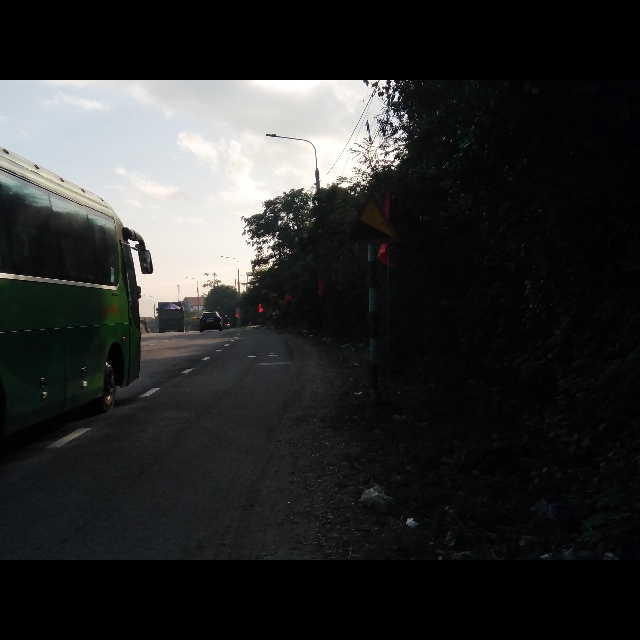Dốc lên nguy hiểm: (341, 187, 400, 245)
